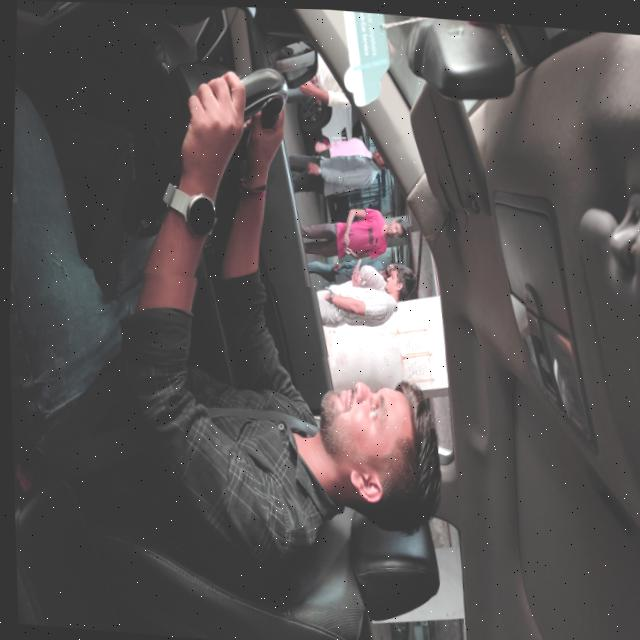seatbelt: (6, 263, 376, 608)
